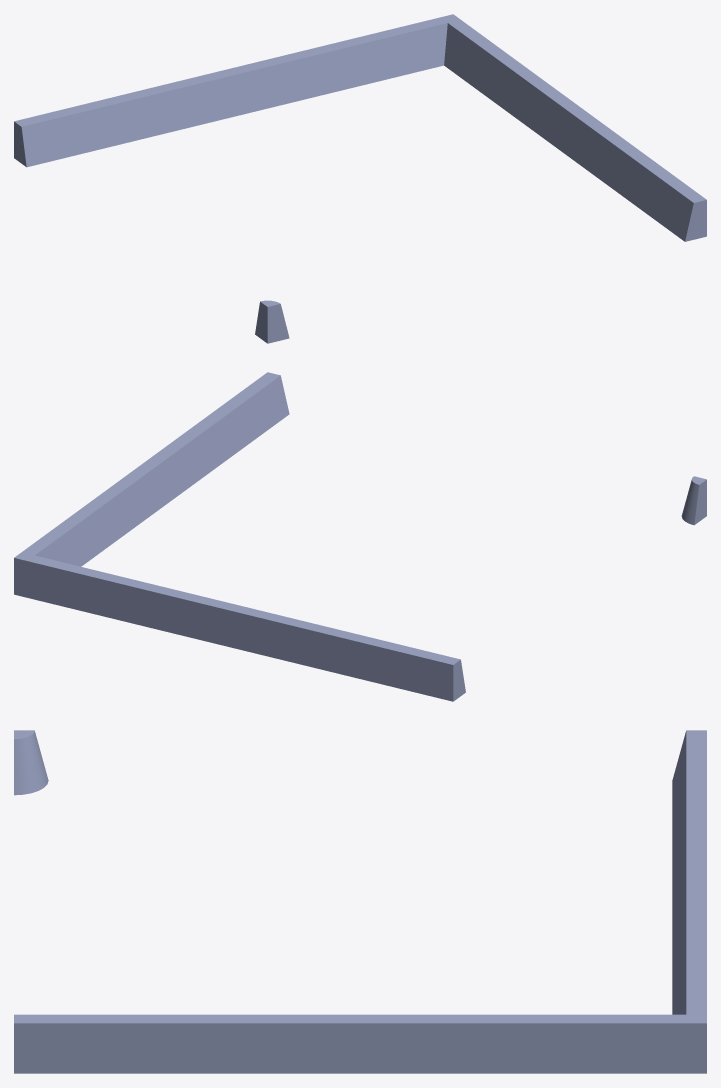
Rendered from road-bend-square-barrier.glb.
3 views of the same model, one above another, from view 1: azimuth 30°, elevation 25°; view 2: azimuth 150°, elevation 25°; view 3: azimuth 270°, elevation 25° (orthographic). The views are drawn at different scales.
Visible parts, largest first — view 1: road-bend-square-barrier; view 2: road-bend-square-barrier; view 3: road-bend-square-barrier.
Part boxes in pixels (x1,y1,x2,y2): road-bend-square-barrier: (14, 14, 706, 343); road-bend-square-barrier: (14, 372, 706, 701); road-bend-square-barrier: (14, 730, 706, 1073).
Bounding box in the file's own units: 10 × 0.7996 × 10.
Materials: 1 (1 with a texture image).
